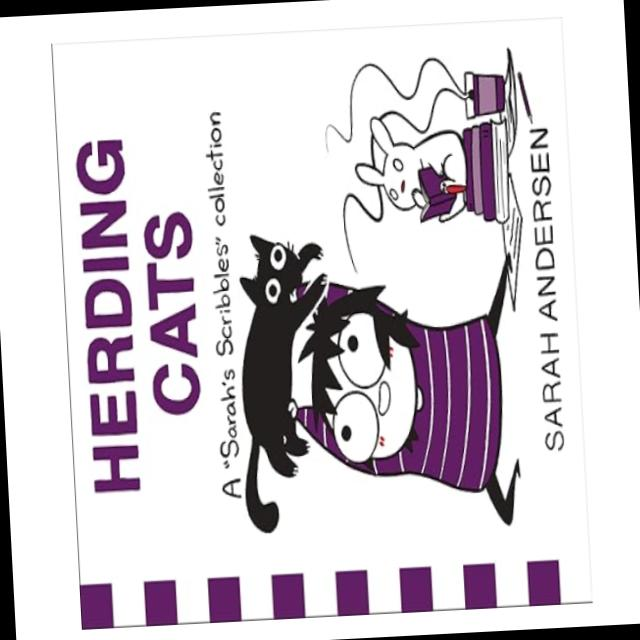titles-or-authors: (67, 124, 216, 506), (519, 116, 573, 464)
